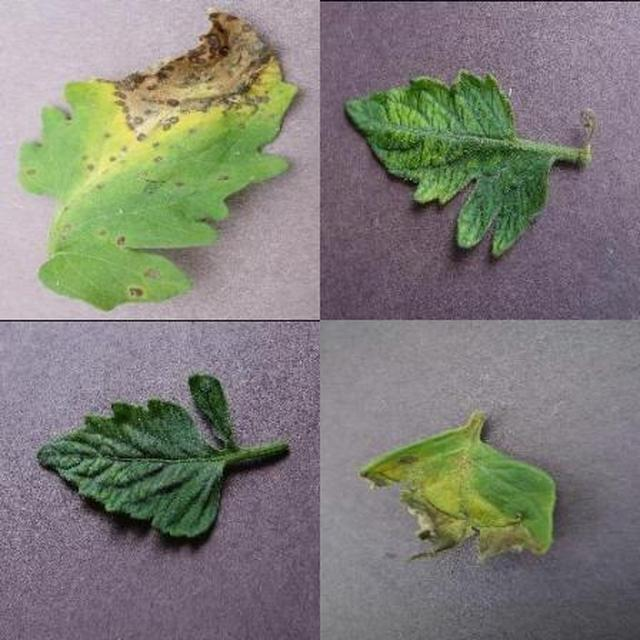Septoria Leaf: (192, 207, 640, 640)
